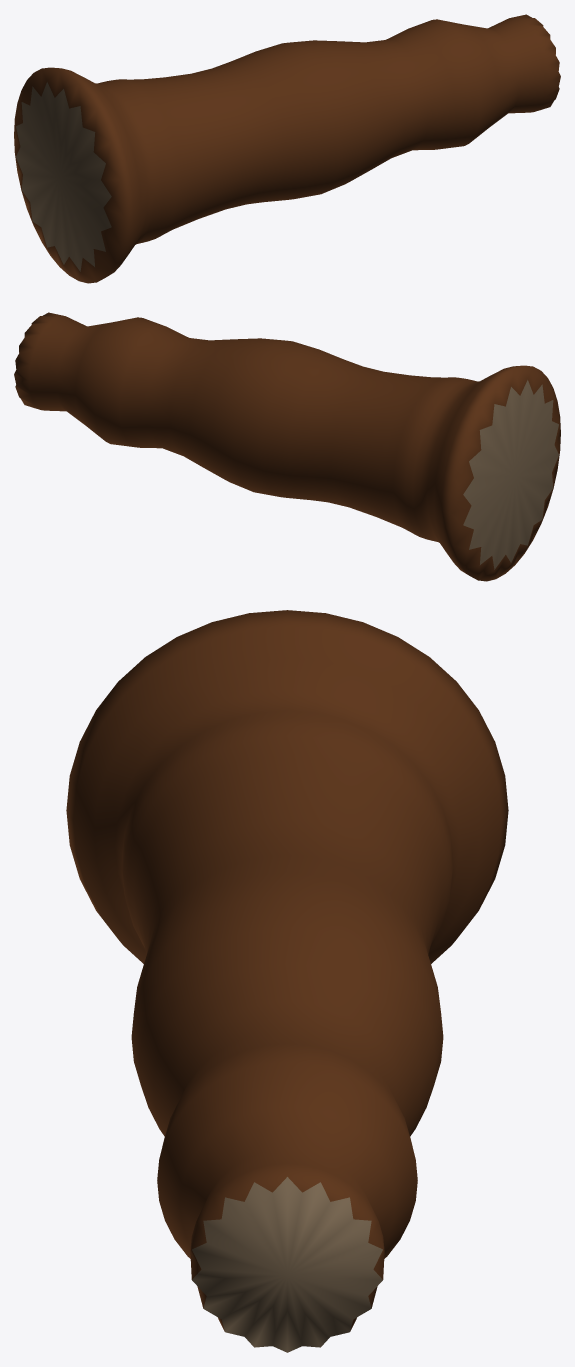
Rendered from Stokk.FBX.
The picture shows the model from 3 angles, top to bottom: view 1: azimuth 30°, elevation 25°; view 2: azimuth 150°, elevation 25°; view 3: azimuth 270°, elevation 25°; orthographic projection. The views are drawn at different scales.
Visible parts, largest first — view 1: Stokk; view 2: Stokk; view 3: Stokk.
Part boxes in pixels (x1,y1,x2,y2): Stokk: (14, 14, 560, 283); Stokk: (14, 312, 560, 581); Stokk: (66, 610, 508, 1352).
Bounding box in the file's own units: 1 × 0.394 × 0.3939.
